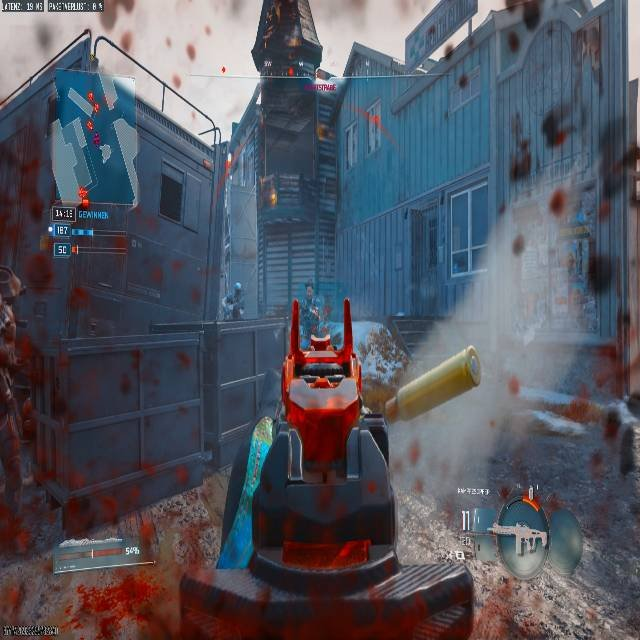head: (234, 286, 241, 295)
player: (224, 287, 245, 319)
